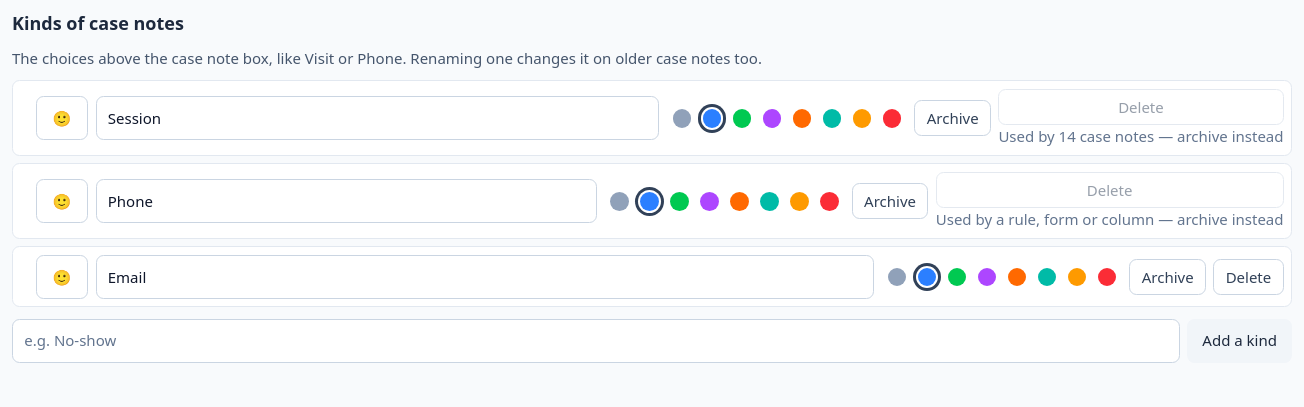
it: Settings editor › greys out Delete for a kind in use, saying why, and offers Restore right after Archive
This screenshot has width=1304, height=407.
Expected: the 1st button "Delete" is disabled, [998,89,1284,125]
Expected: the text "Used by 14 case notes — archive instead" is shown, [998,125,1284,147]
What coordinates should you click on to do the following:
click the 2nd button "Archive"
I would click on:
 (890, 201)
Its box is [852,183,928,219].
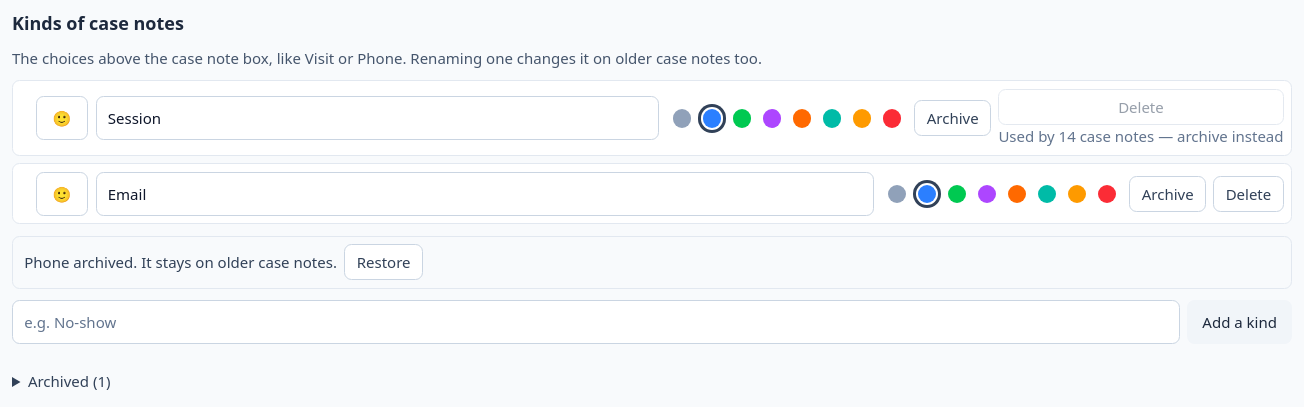
Now the text "Phone archived. It stays on older case notes. Restore" is shown, box [12,236,1292,289]
What coordinates should you click on to do the following:
click the button "Restore"
I would click on:
 (384, 262)
Its box is [344,244,423,280].
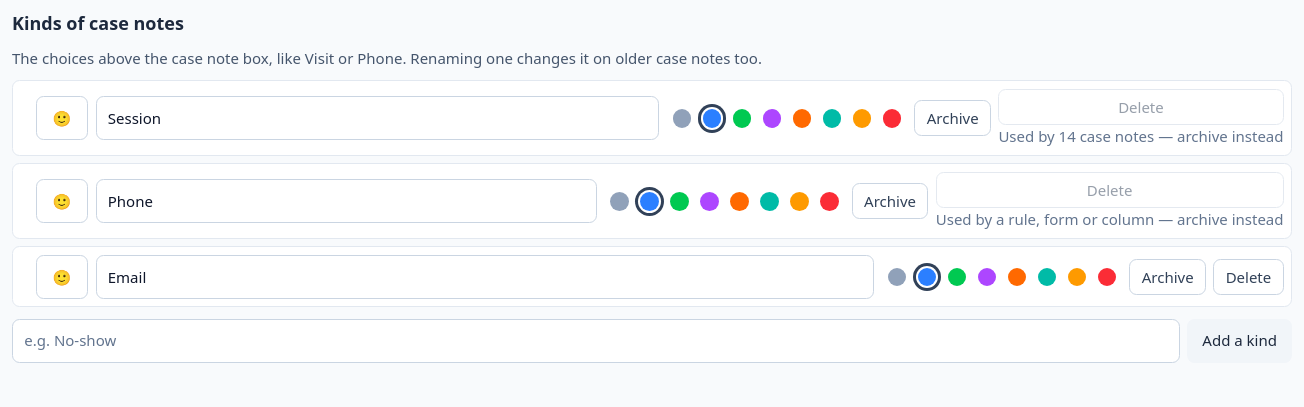
Now the text "Phone archived." is gone
Now the field named "Name of Phone" is shown, box [96,179,597,223]
